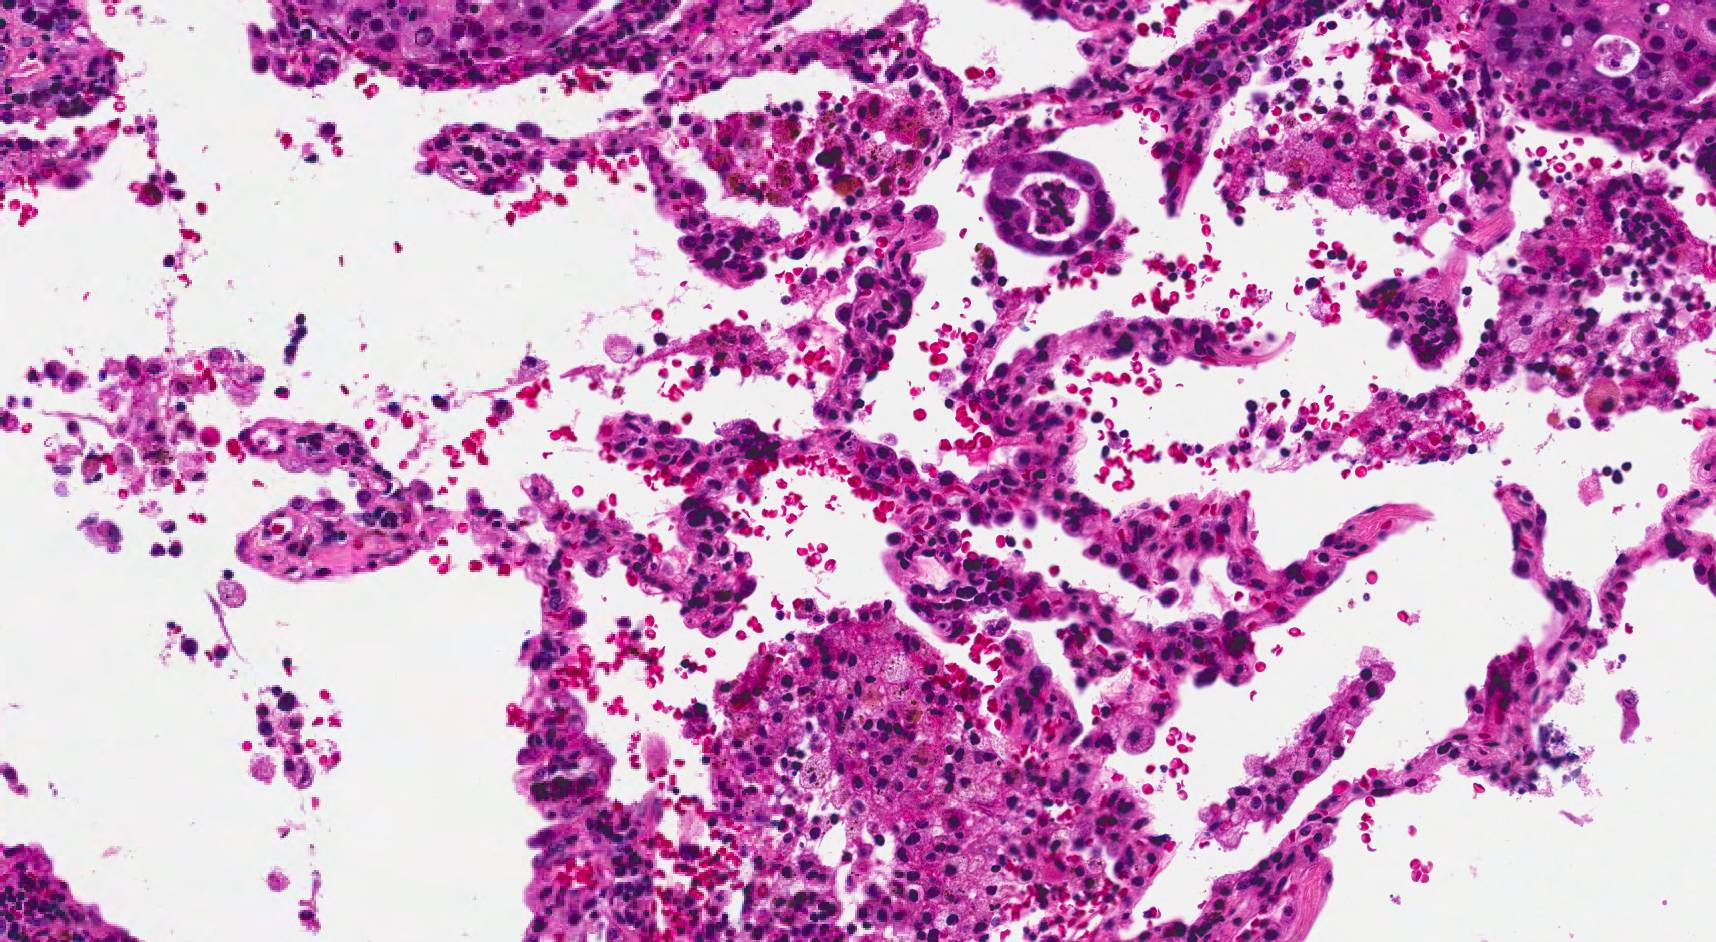stas: (982, 150, 1118, 257)
